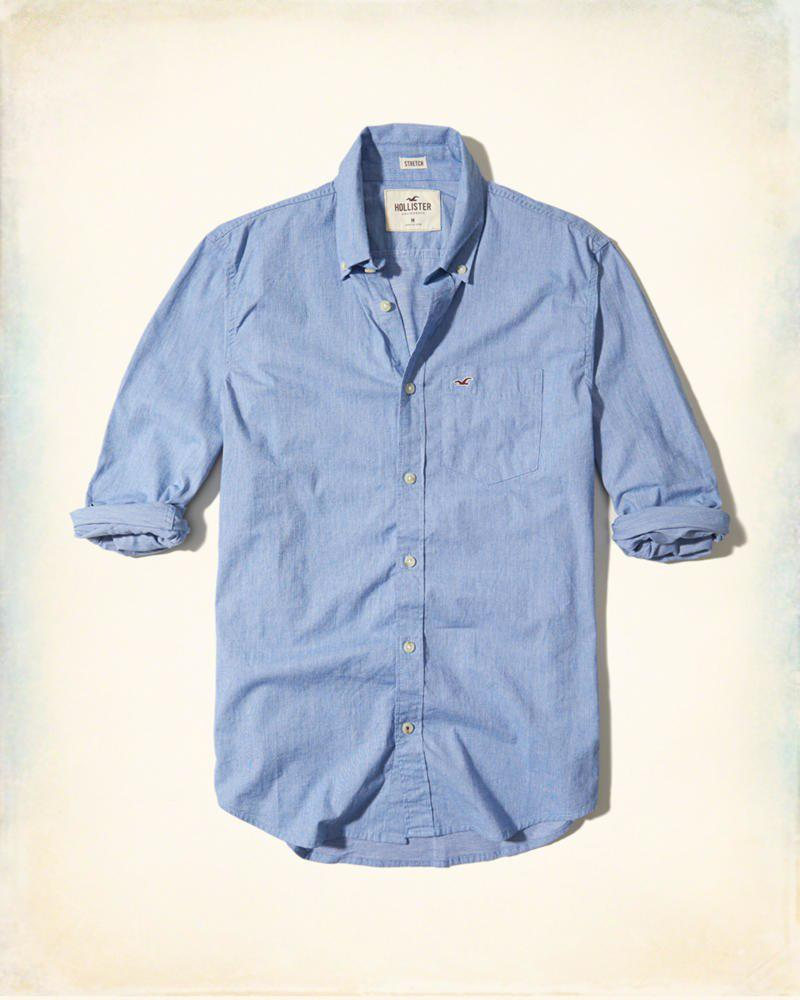teeshirt: (79, 115, 749, 862)
